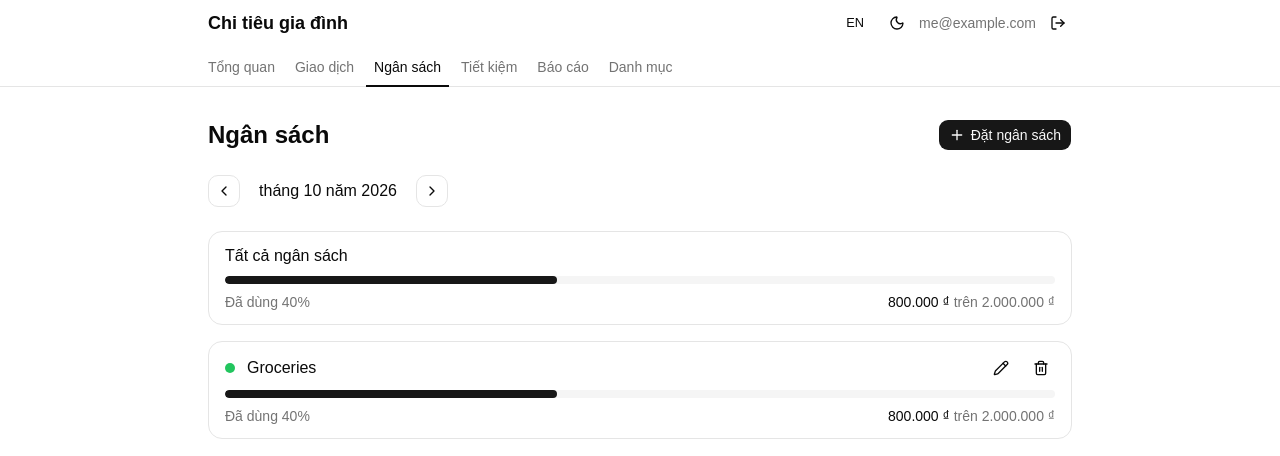
Test: icon button tooltips › is written in the current language
Hover over the button named "Tháng sau".
mouse_move(432, 191)  # box [416,175,448,207]
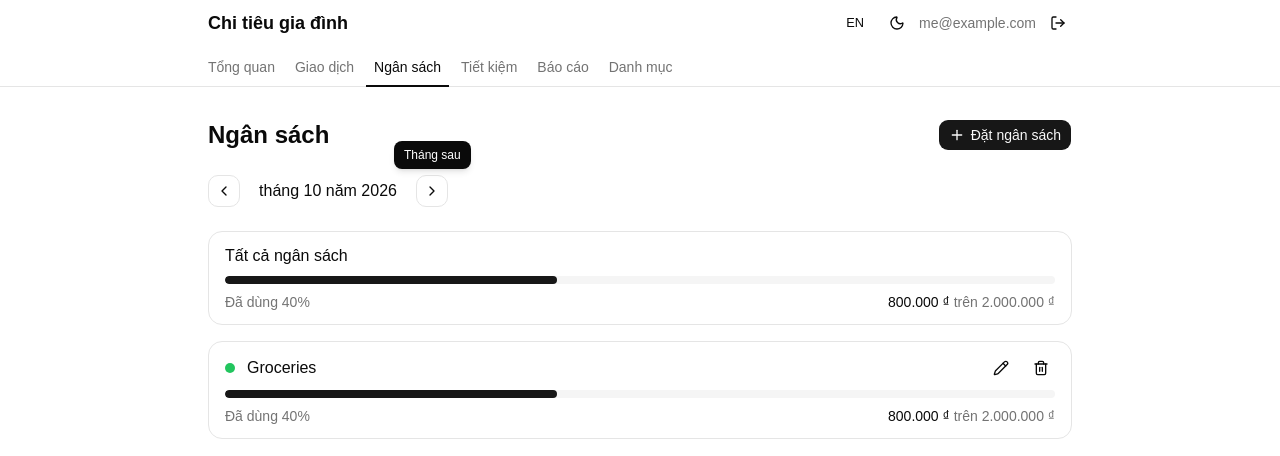
Expected: the tooltip reads "Tháng sau", [404,148,461,162]
